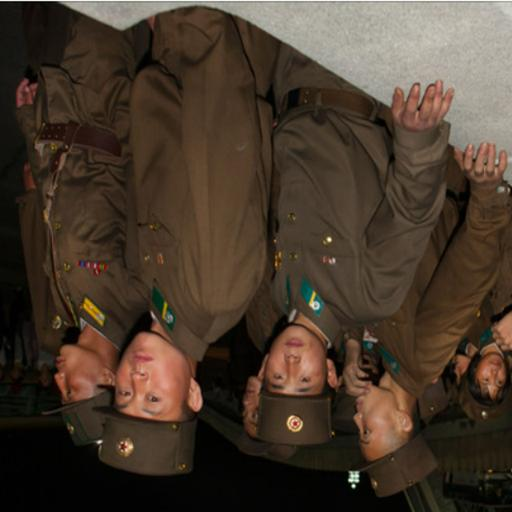north army: (29, 33, 512, 512)
